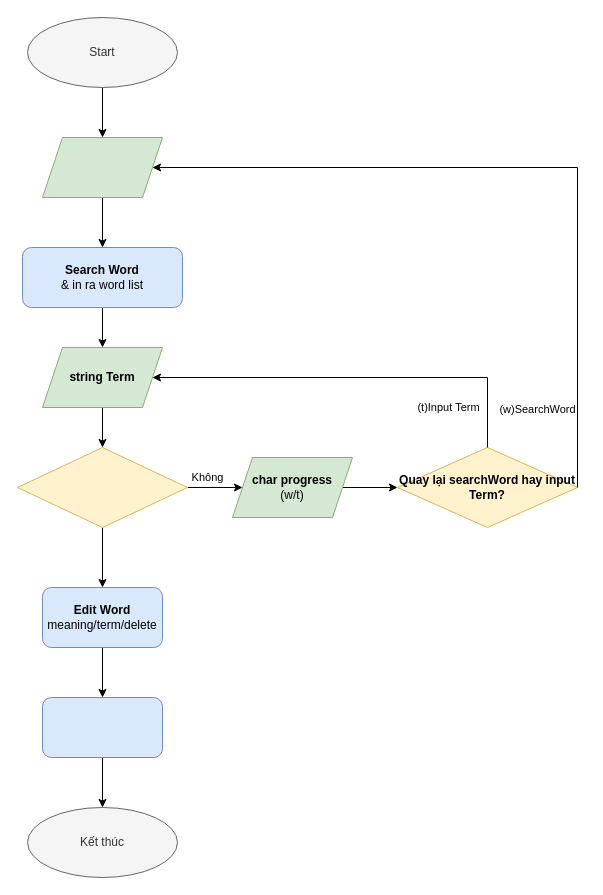
This 603x895 diagram has some shape labels left out. Here are the shapes that lost their labels. From the top down, the box of each, then its label:
(42, 136, 162, 198): string KeyWord
(16, 446, 188, 528): Term có trong word list không?
(42, 696, 162, 758): Cập nhật word dựa vào IdWord & Term
